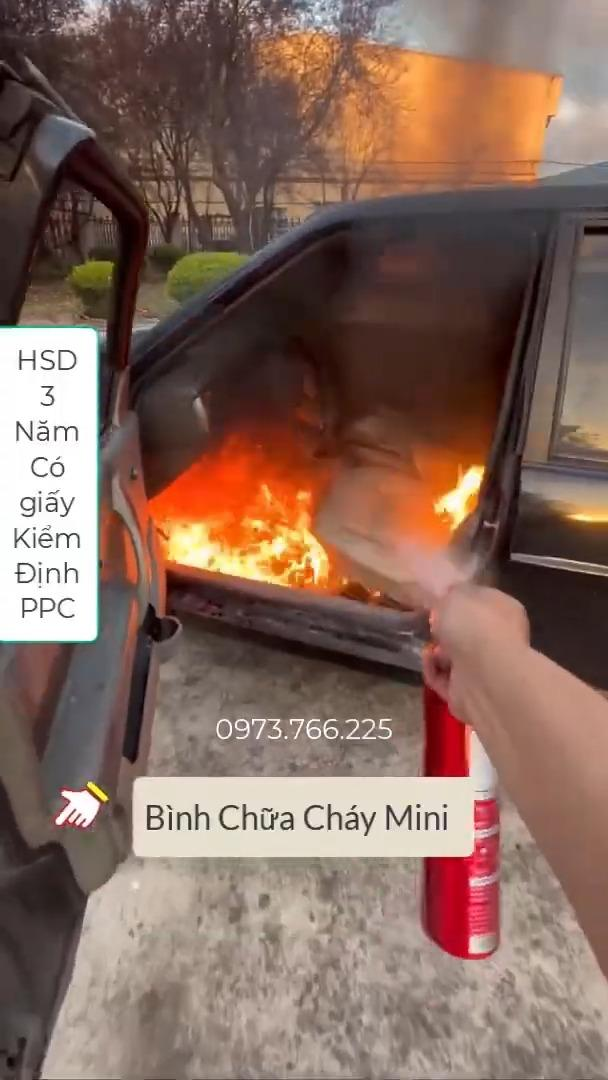FireExtinguisher: (406, 630, 526, 980)
